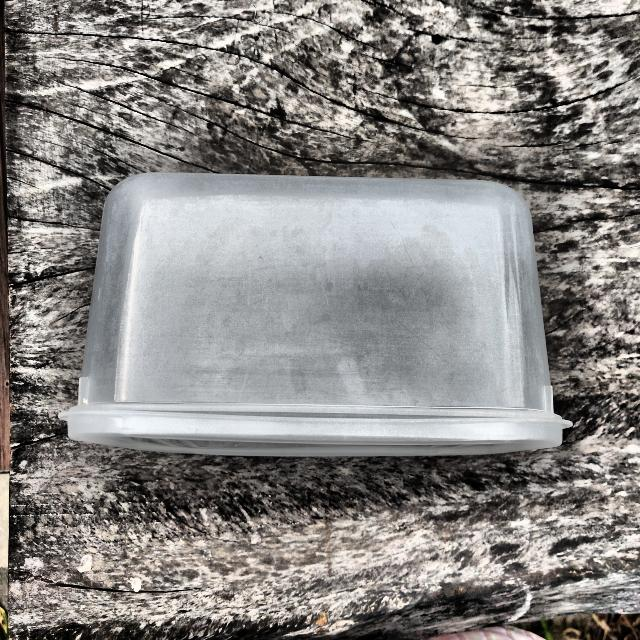plastic container: (70, 154, 584, 493)
